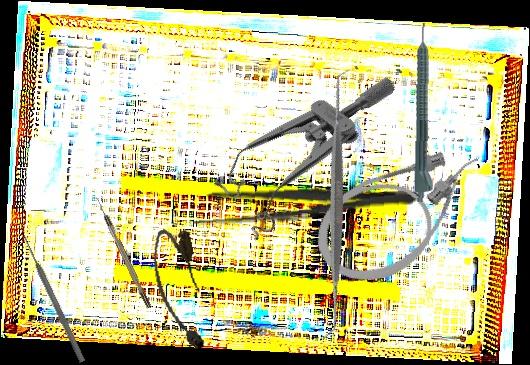Cannula: (300, 129, 507, 301), (146, 224, 213, 356)
Dressing Forceps: (190, 176, 421, 230)
Handpiece: (413, 22, 438, 203)
Hook Surgical: (94, 195, 152, 310)
Pusher: (20, 233, 87, 364)
Spatula Surgical: (199, 67, 473, 342)
Speculum: (201, 33, 398, 253)
